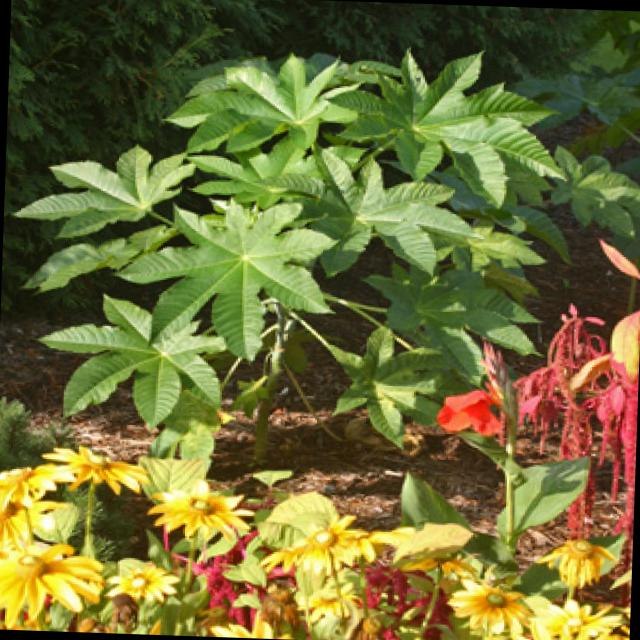Castor Oil Plant: (274, 154, 572, 424), (314, 40, 569, 202), (38, 159, 304, 314), (59, 290, 280, 471), (181, 52, 385, 209)
